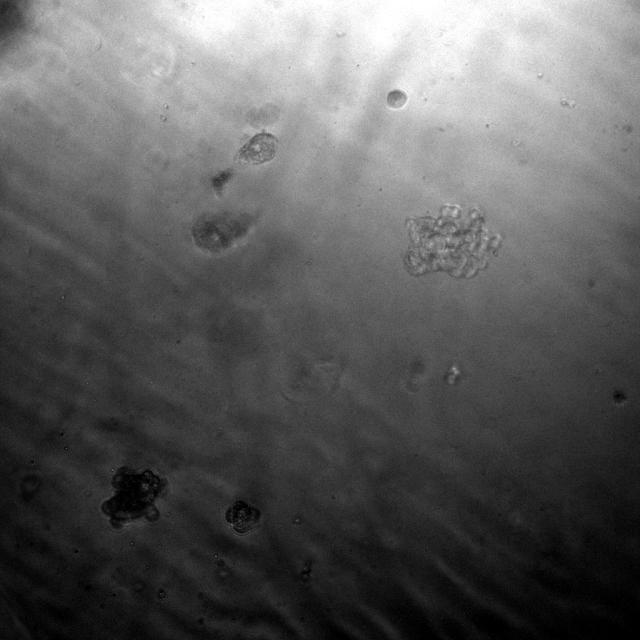organoid: (404, 204, 501, 277), (102, 467, 166, 528), (191, 211, 254, 255), (235, 133, 278, 164), (224, 500, 260, 535), (211, 168, 233, 196), (386, 89, 408, 109), (614, 392, 626, 404)
